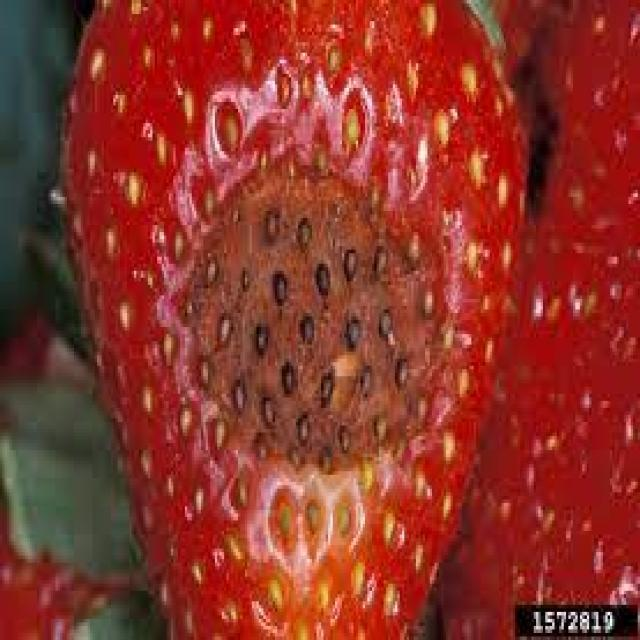Mancha negra Antracnosis: (58, 5, 524, 640)
